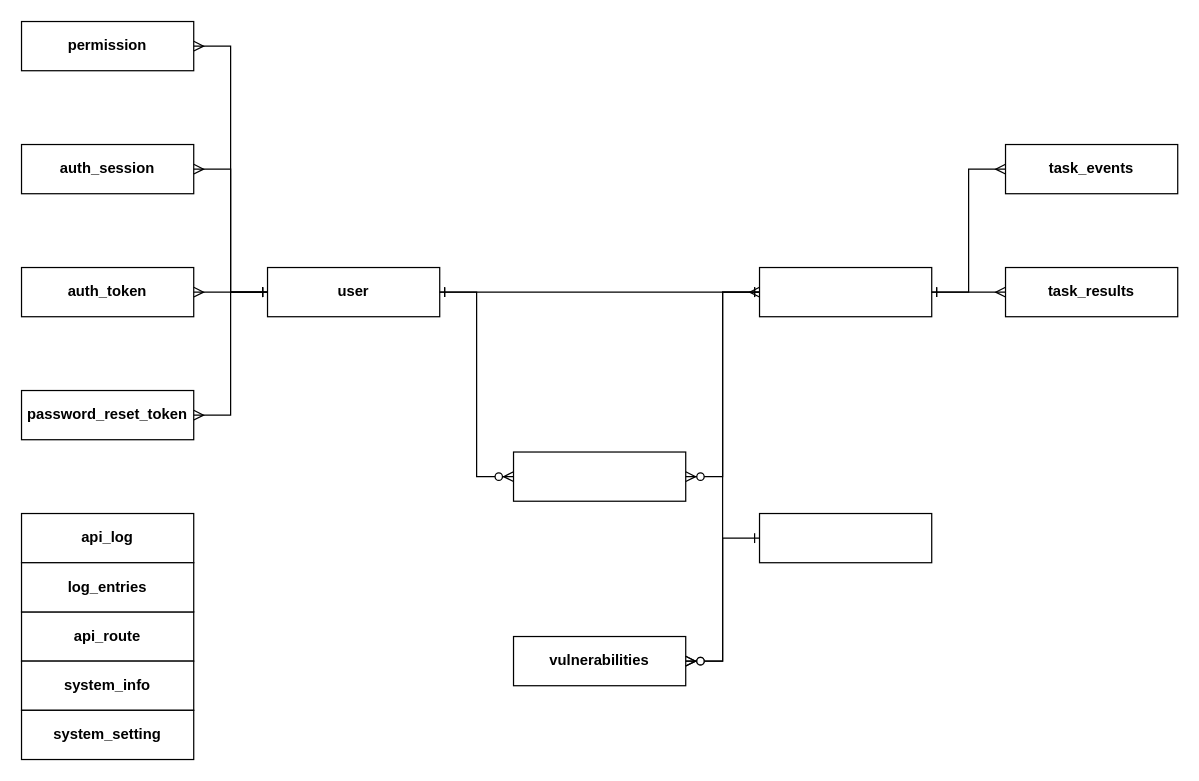
Some shapes in this 1199 by 781 pixel diagram are drawn without their labels. Here are the shapes that lost their labels. From the top down, the box of each, then its label:
(758, 266, 932, 317): tasks
(512, 451, 686, 501): reports
(758, 512, 932, 563): asset
